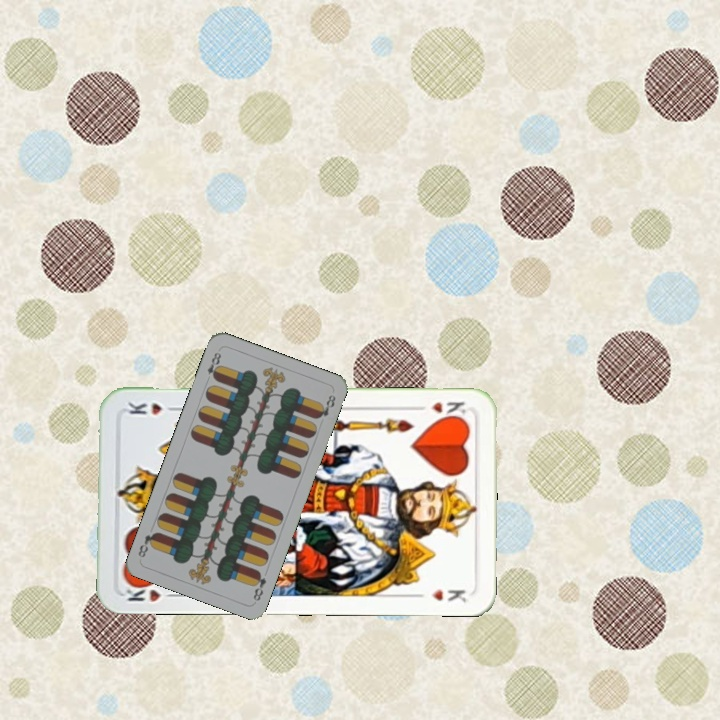E8: (249, 567, 269, 604), (203, 348, 224, 382)
HK: (121, 578, 180, 605), (412, 397, 468, 422)
